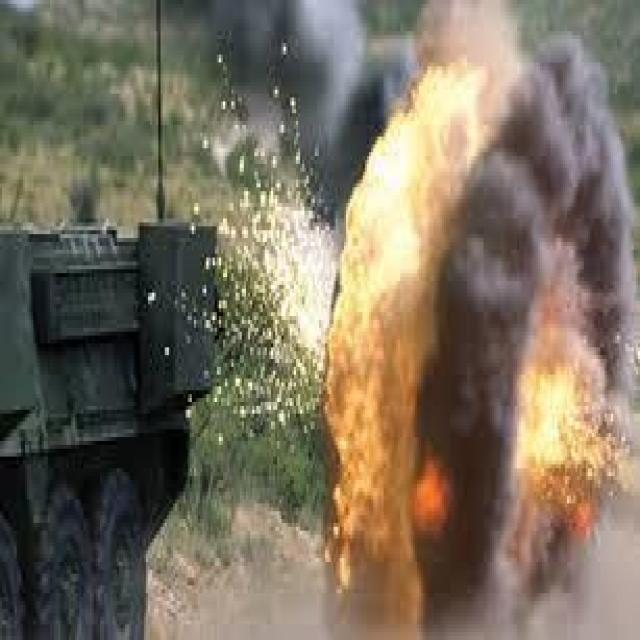MIL_MBT: (18, 195, 228, 620)
